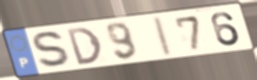6: (210, 11, 242, 47)
7: (172, 14, 203, 52)
9: (106, 21, 140, 62)
D: (64, 25, 104, 67)
I: (153, 14, 175, 59)
S: (31, 30, 75, 70)
